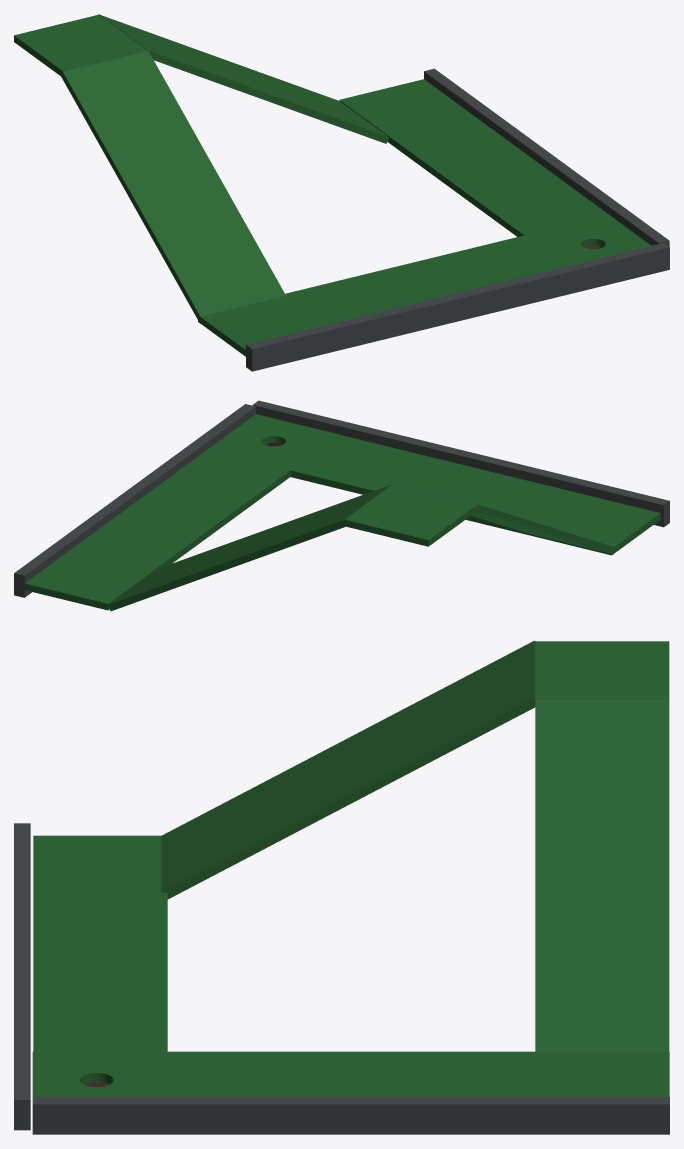
File: Pista5.fbx
3 renders of one model, top to bottom at view 1: azimuth 30°, elevation 25°; view 2: azimuth 150°, elevation 25°; view 3: azimuth 270°, elevation 25°, orthographic. The views are drawn at different scales.
Visible parts, largest first — view 1: Cube.005, Cube.003, Cube.004, Cube.007, Cube.002, Cube.001, Cube.006; view 2: Cube.003, Cube.004, Cube.007, Cube.002, Cube.001, Cube.006, Cube.005; view 3: Cube.002, Cube.003, Cube.004, Cube.005, Cube.006, Cube.001, Cube.007.
Boxes of the visible parts, bbox=[...] form: Cube.005: bbox=[61, 51, 285, 323]; Cube.003: bbox=[339, 79, 651, 266]; Cube.004: bbox=[198, 235, 566, 356]; Cube.007: bbox=[246, 243, 669, 371]; Cube.002: bbox=[98, 14, 388, 143]; Cube.001: bbox=[14, 14, 148, 75]; Cube.006: bbox=[424, 68, 669, 246]; Cube.003: bbox=[24, 414, 338, 610]; Cube.004: bbox=[290, 434, 660, 555]; Cube.007: bbox=[252, 400, 669, 527]; Cube.002: bbox=[108, 484, 393, 611]; Cube.001: bbox=[344, 484, 476, 546]; Cube.006: bbox=[14, 404, 255, 597]; Cube.005: bbox=[394, 484, 613, 554]; Cube.002: bbox=[535, 696, 669, 1051]; Cube.003: bbox=[32, 1051, 669, 1096]; Cube.004: bbox=[33, 835, 167, 1051]; Cube.005: bbox=[161, 640, 535, 899]; Cube.006: bbox=[32, 1097, 669, 1134]; Cube.001: bbox=[535, 641, 669, 698]; Cube.007: bbox=[14, 823, 30, 1130].
Bounding box in the file's own units: 3961 × 1492 × 3912.
